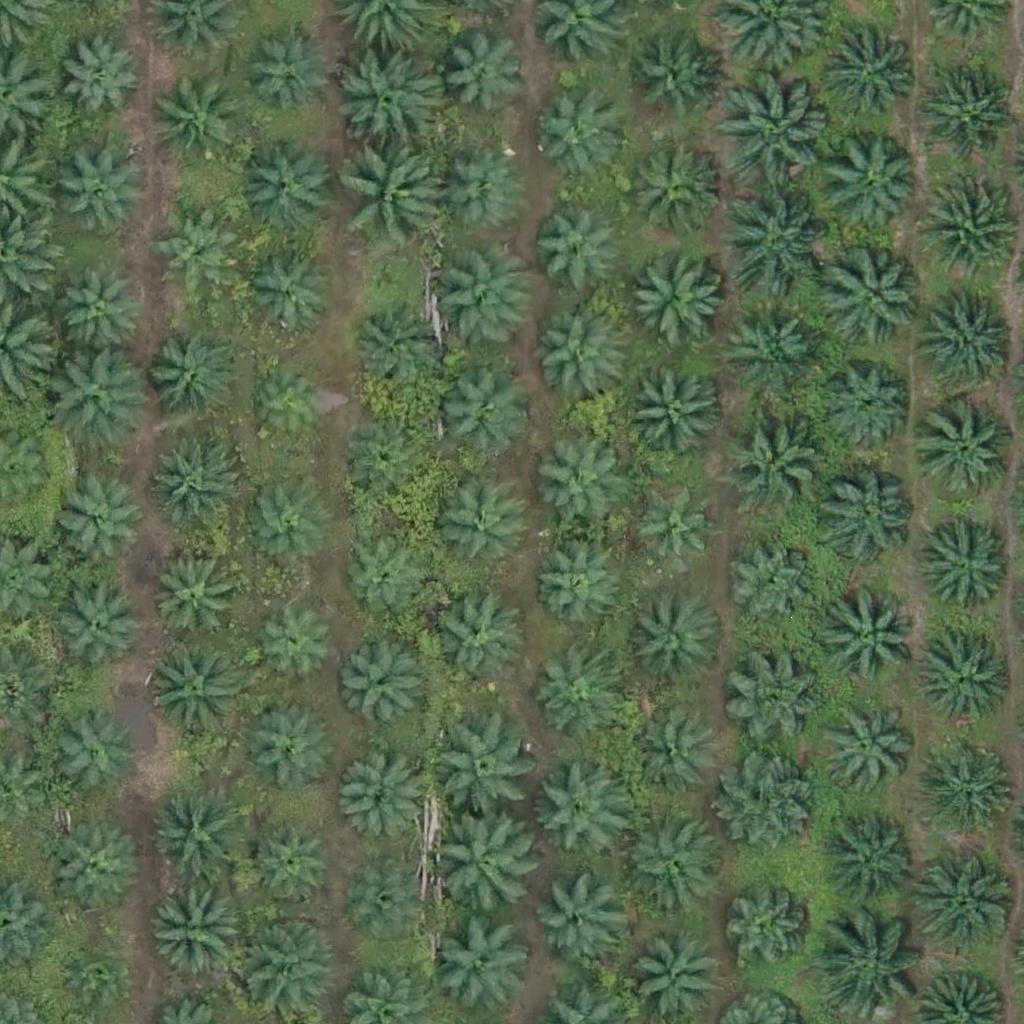Kelapa_Sawit: (427, 810, 540, 924), (715, 185, 827, 298), (721, 74, 833, 187), (439, 915, 539, 1016), (233, 915, 333, 1016), (51, 347, 151, 448), (146, 643, 246, 744), (149, 783, 249, 884), (344, 149, 444, 250), (351, 297, 451, 398), (424, 593, 524, 694), (439, 718, 539, 819), (529, 430, 629, 531), (623, 813, 723, 914), (624, 364, 724, 465), (626, 245, 726, 346), (622, 136, 722, 237), (721, 297, 821, 398), (724, 408, 824, 509), (723, 646, 823, 747), (721, 750, 821, 851), (818, 131, 918, 232), (824, 585, 924, 686), (817, 700, 917, 801), (821, 809, 921, 910), (915, 852, 1015, 953), (914, 628, 1014, 729), (916, 399, 1016, 500), (917, 175, 1017, 276), (919, 63, 1019, 164), (816, 22, 916, 123), (147, 882, 247, 982), (234, 140, 334, 240), (241, 244, 341, 344), (434, 251, 534, 351), (530, 756, 630, 856), (823, 250, 923, 350), (814, 467, 914, 567), (922, 739, 1022, 839), (917, 515, 1017, 615), (335, 52, 435, 152), (150, 336, 238, 425), (532, 875, 620, 963), (60, 271, 148, 359), (52, 482, 140, 570), (56, 583, 144, 671), (48, 712, 136, 800), (153, 79, 241, 167), (153, 206, 241, 294), (150, 442, 238, 530), (346, 421, 434, 509), (436, 148, 524, 236), (437, 369, 525, 457), (433, 481, 521, 569), (534, 206, 622, 294), (534, 313, 622, 401), (531, 546, 619, 634), (633, 590, 721, 678), (728, 540, 816, 628), (629, 31, 717, 119), (240, 32, 328, 120), (627, 483, 714, 572), (723, 889, 810, 977), (629, 935, 716, 1023), (55, 828, 142, 916), (57, 150, 144, 238), (153, 556, 240, 644), (248, 820, 335, 908), (248, 702, 335, 790), (255, 598, 342, 686), (243, 475, 330, 563), (342, 538, 429, 626), (341, 647, 428, 735), (338, 755, 425, 843), (530, 653, 617, 741), (628, 711, 715, 799), (823, 361, 910, 449), (527, 95, 614, 183), (438, 27, 525, 115), (59, 30, 146, 118), (253, 369, 328, 445), (352, 865, 427, 941), (63, 942, 125, 1005)
